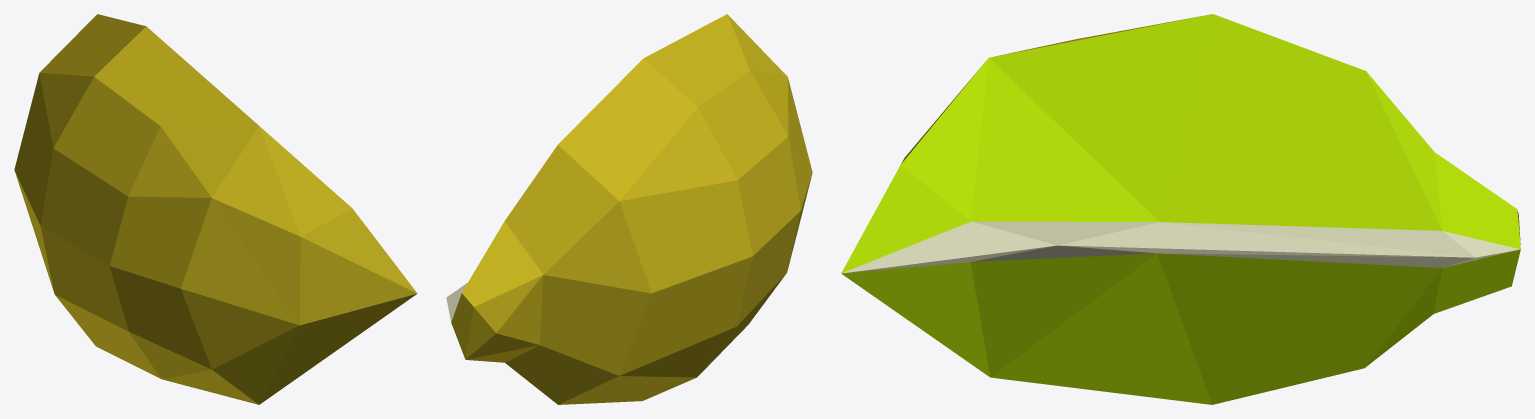
Rendered from Lemon Slice.fbx.
The picture shows the model from 3 angles, left to right: view 1: azimuth 30°, elevation 25°; view 2: azimuth 150°, elevation 25°; view 3: azimuth 270°, elevation 25°; orthographic projection. The views are drawn at different scales.
Parts seen in each view (by area): view 1: Lemon Slice; view 2: Lemon Slice; view 3: Lemon Slice.
Boxes of the visible parts, x1,y1,x2,y2 form: Lemon Slice: [14, 14, 417, 404]; Lemon Slice: [446, 14, 812, 404]; Lemon Slice: [841, 14, 1520, 404].
Size of the model in its own units: 5.3 by 8.02 by 12.66.
